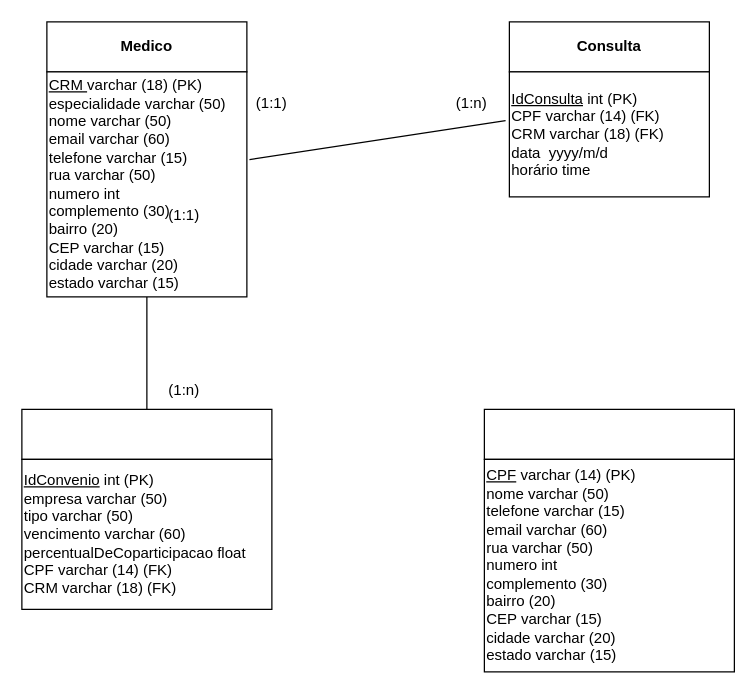
Image size: 756x694. Some labels were removed from this diagram. Here are the shapes that lost their labels. From the top down, the box of each, then its label:
(21, 408, 272, 459): Convenio
(483, 408, 734, 459): Paciente
